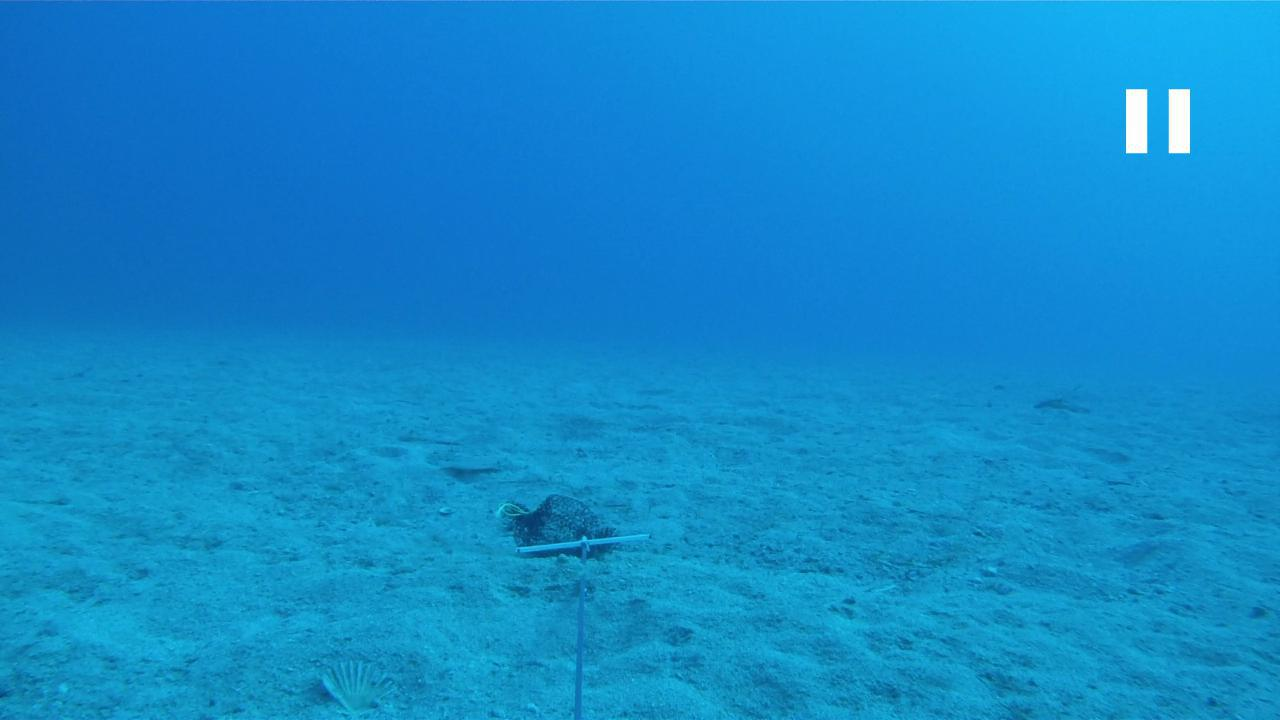bothus: (430, 448, 498, 475)
